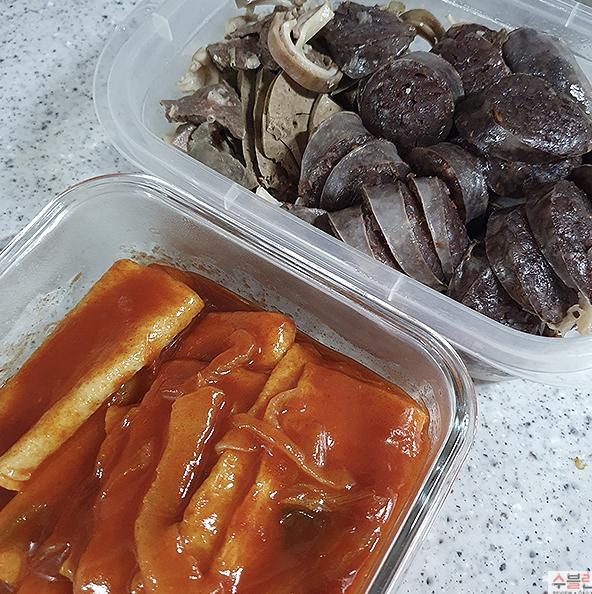Lunch Box: (0, 176, 475, 593), (94, 0, 591, 385)
